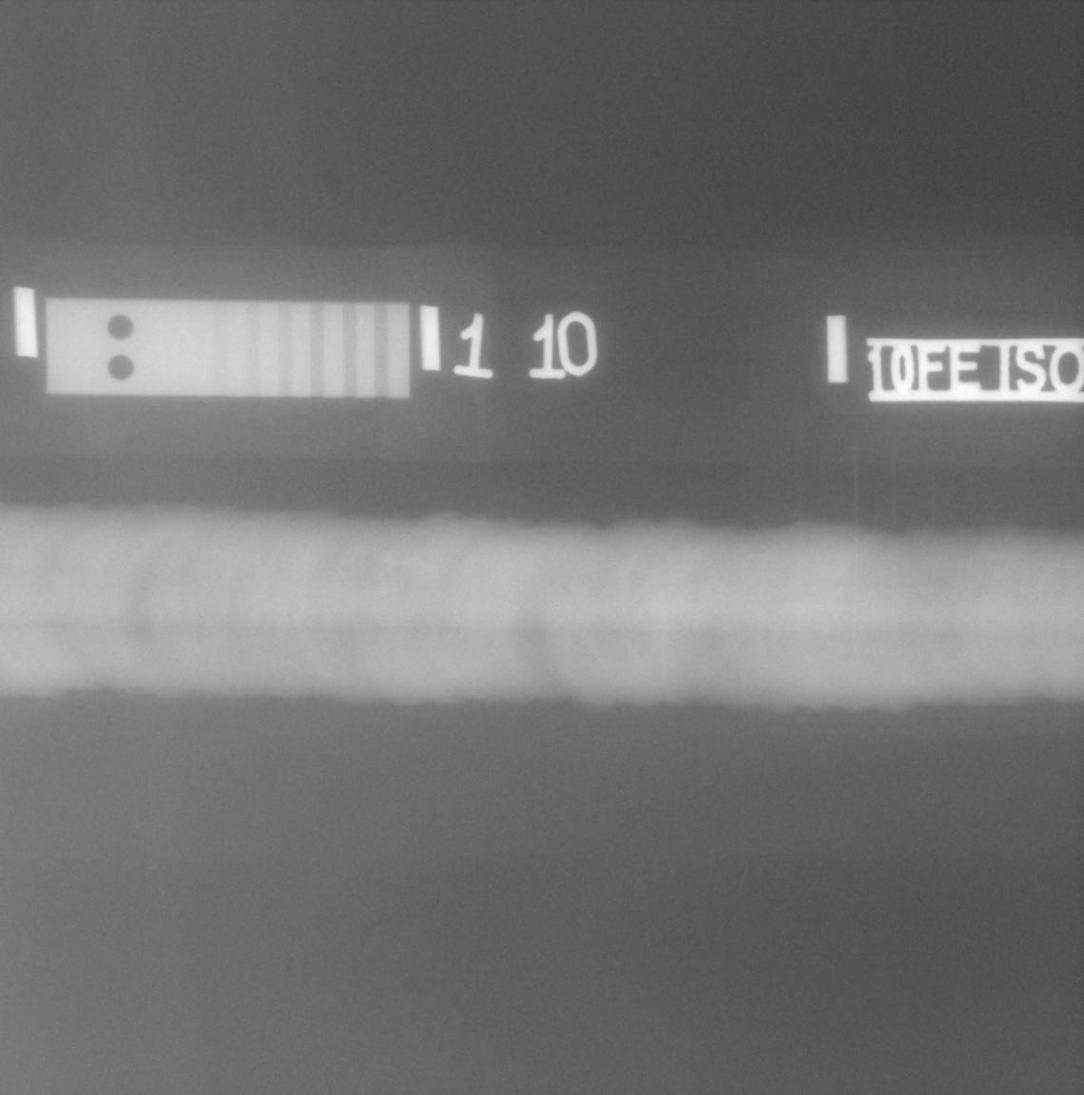Reference Standard 2: (46, 298, 409, 399)
